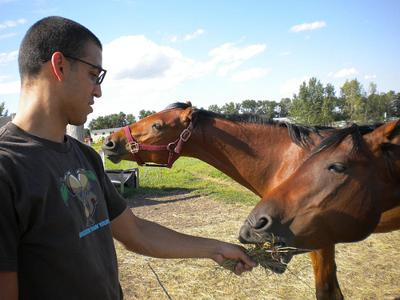person: (2, 17, 258, 298)
